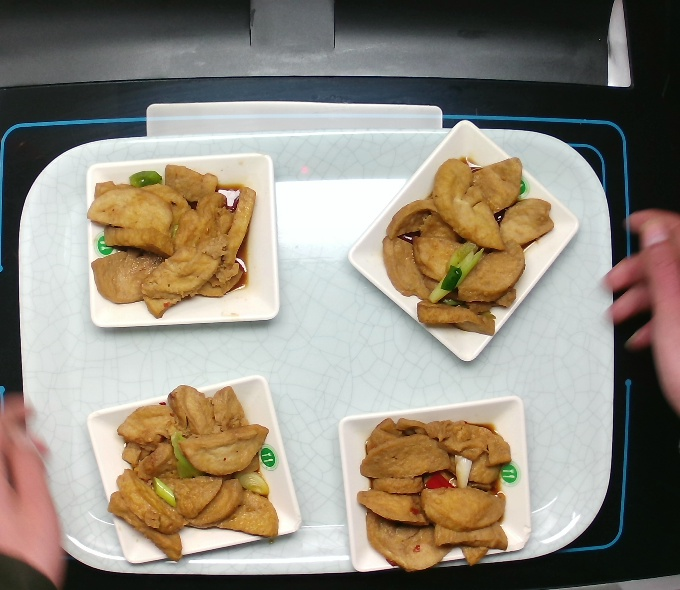wcq-SuJi: (95, 372, 292, 567), (376, 151, 560, 350), (79, 155, 263, 320), (349, 407, 520, 573)
